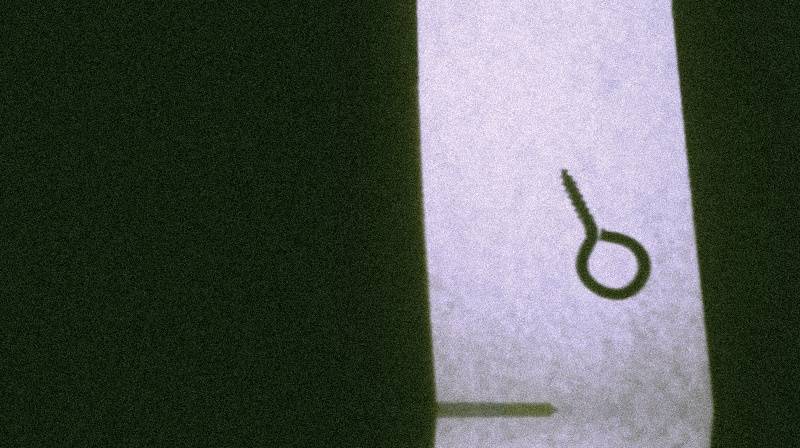O001: (557, 165, 655, 303)
